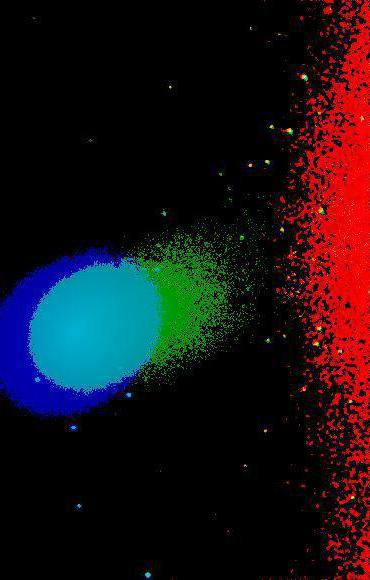star: (234, 150, 264, 180)
